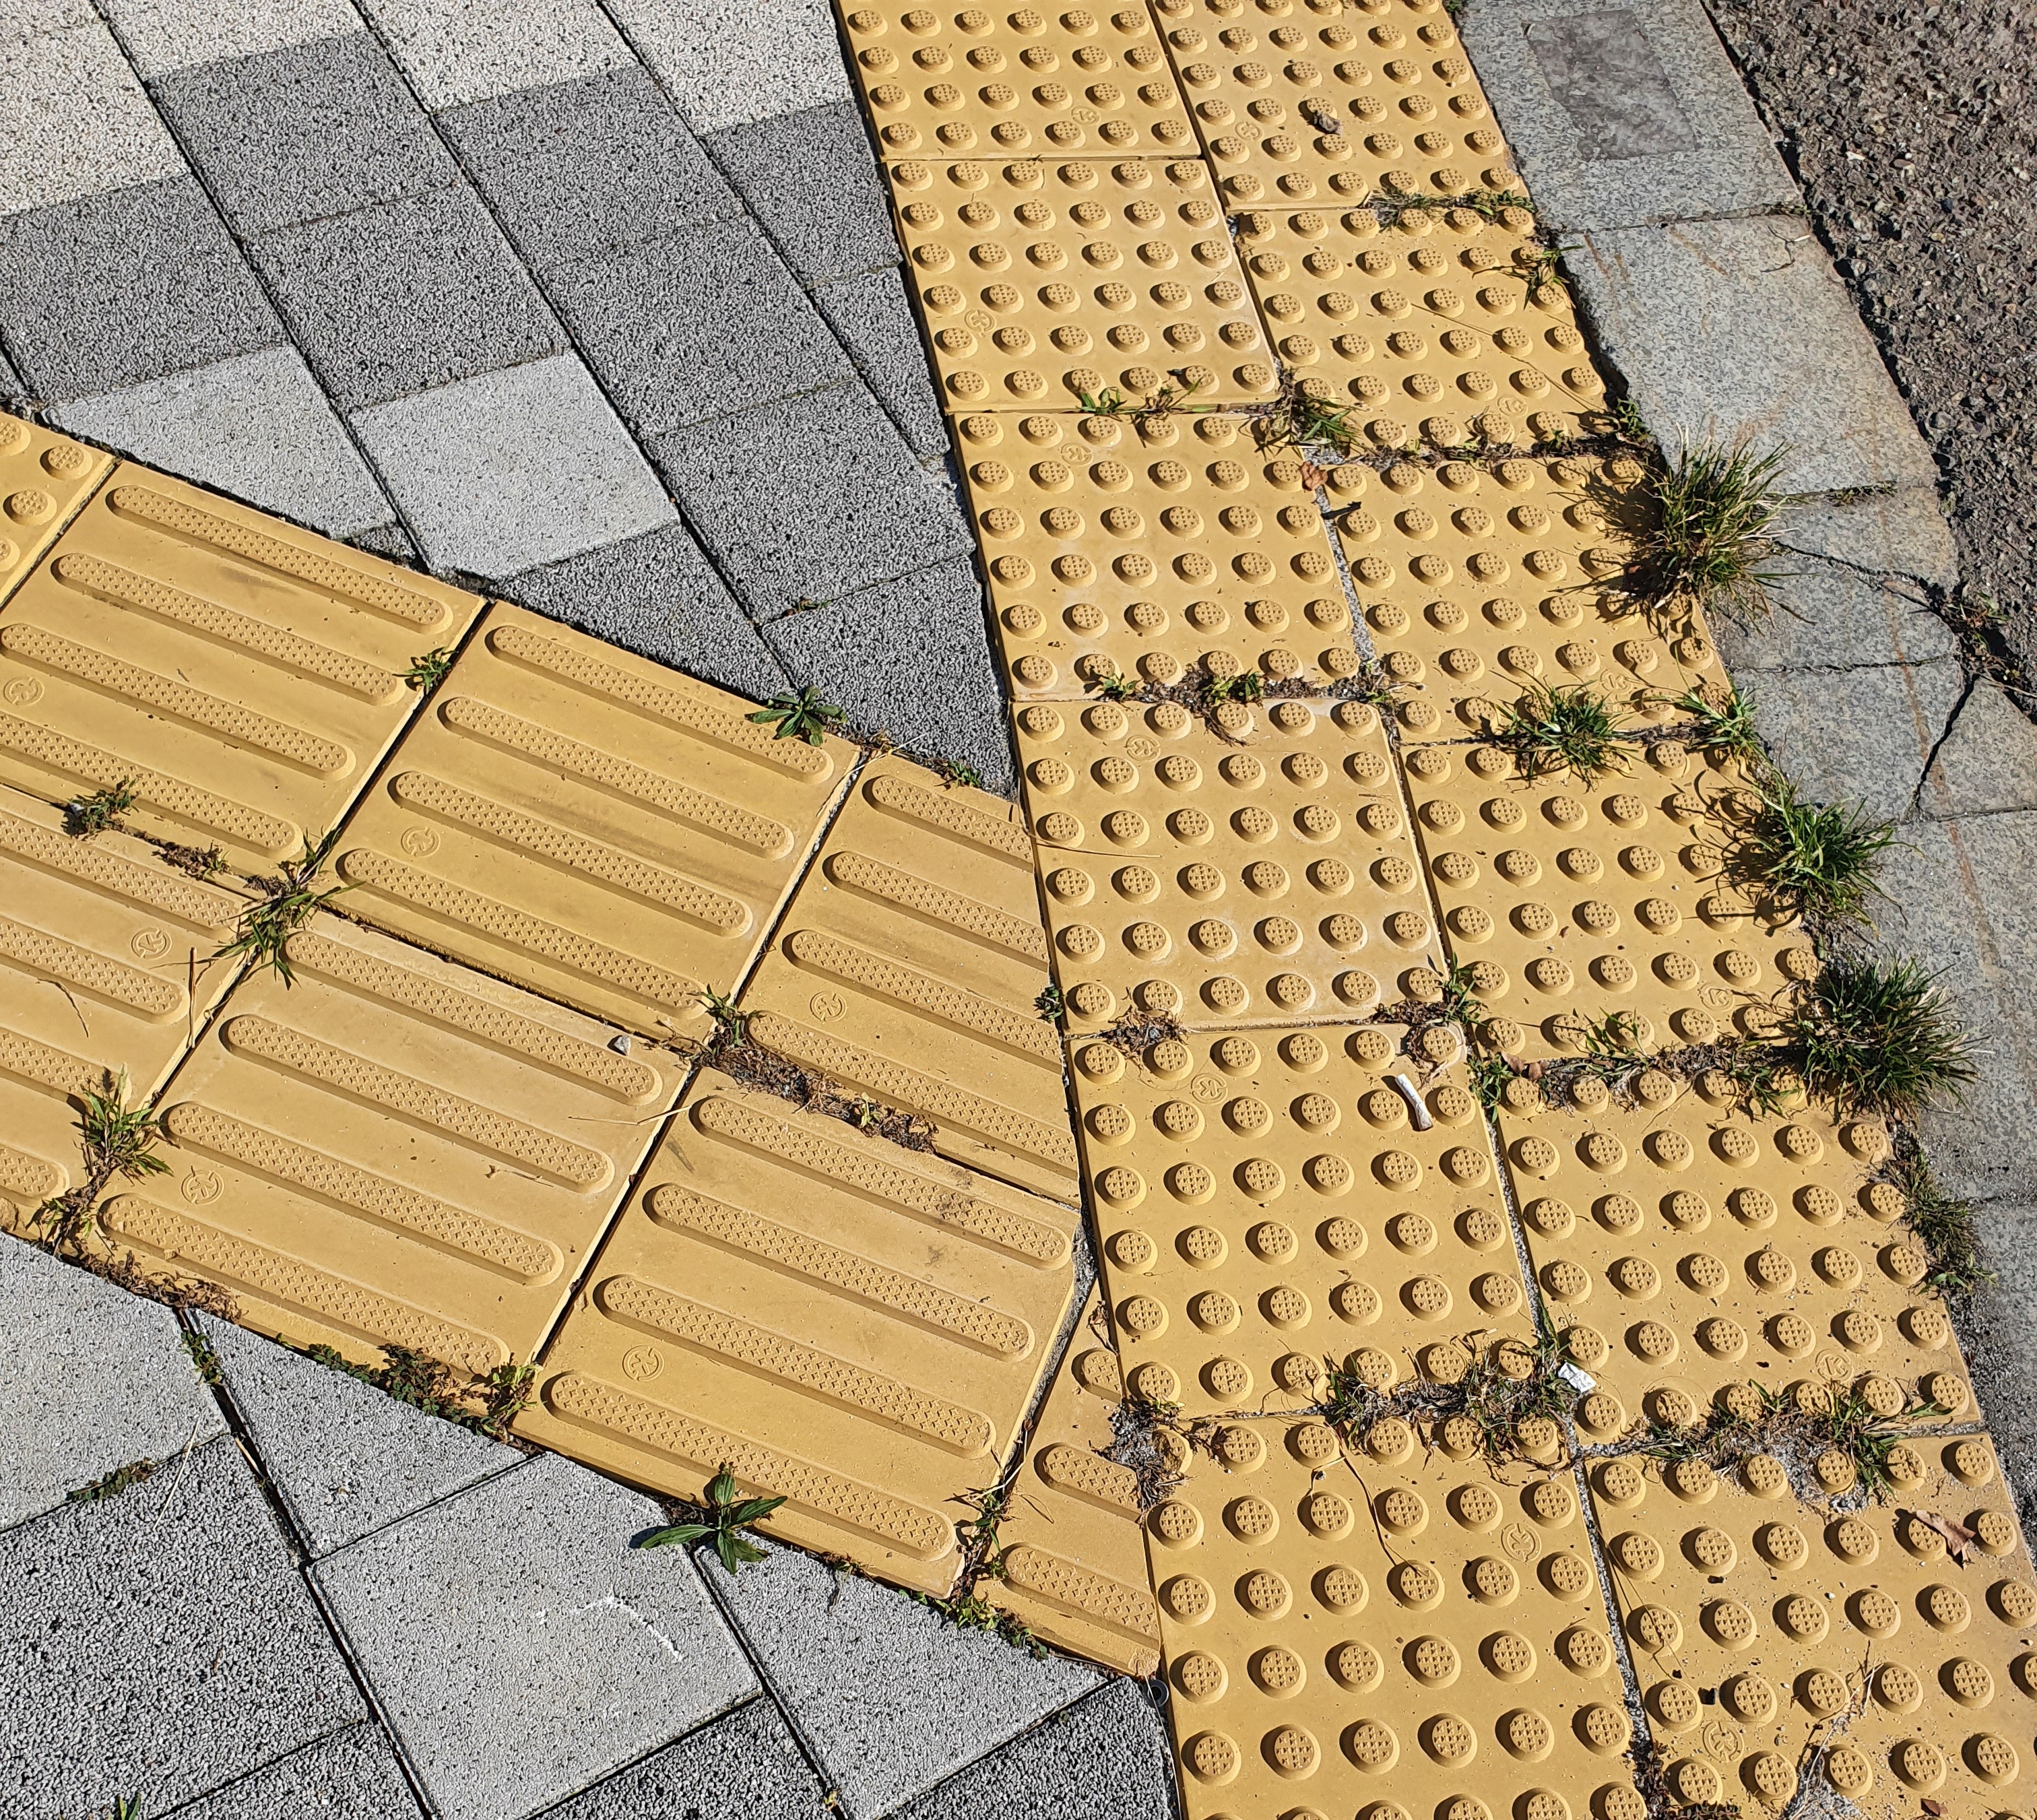guideBlock: (576, 1138, 1011, 1514), (181, 954, 572, 1367), (9, 483, 437, 847), (385, 606, 773, 991), (769, 741, 1101, 1165)
warningBlock: (1154, 1421, 1626, 1820), (1621, 1435, 2037, 1820), (1076, 1038, 1530, 1384), (1517, 1044, 1923, 1418), (1027, 708, 1410, 1003), (1415, 745, 1800, 1028), (917, 149, 1303, 415), (973, 430, 1354, 685), (1326, 450, 1682, 715), (1271, 218, 1580, 469), (1173, 16, 1487, 223), (859, 2, 1206, 156)
